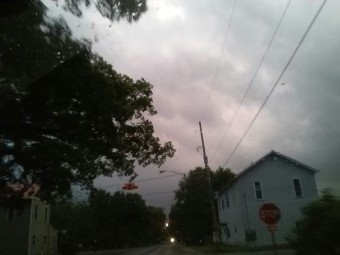SS: (258, 203, 279, 226)
